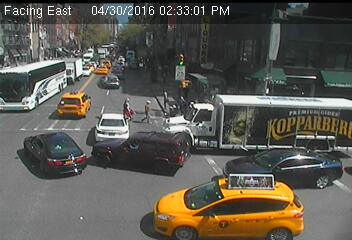neg: (17, 157, 54, 206), (196, 109, 230, 154), (80, 127, 109, 166), (249, 111, 277, 148), (297, 30, 325, 66), (226, 184, 253, 221), (170, 43, 194, 76), (257, 54, 280, 85), (43, 67, 64, 96), (134, 170, 155, 198), (99, 42, 116, 64)
pos: (117, 93, 139, 121), (141, 98, 160, 123)
